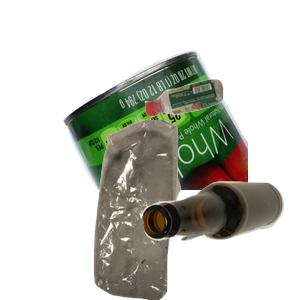glass: (140, 179, 300, 300)
metal: (60, 48, 300, 228)
plastic: (142, 77, 300, 186)
trash: (70, 120, 256, 300)
